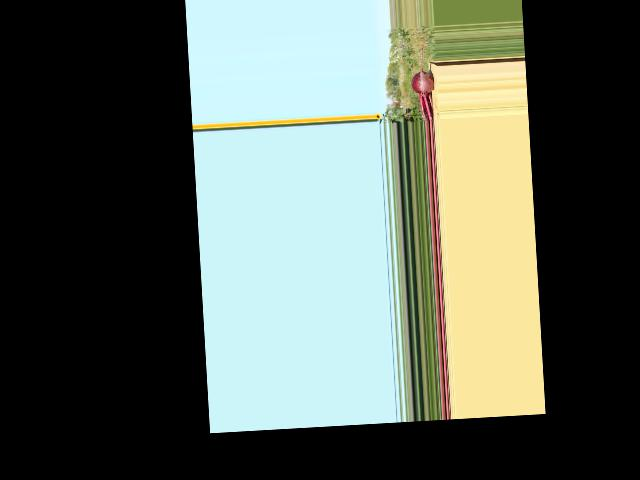beet: (408, 29, 436, 122)
